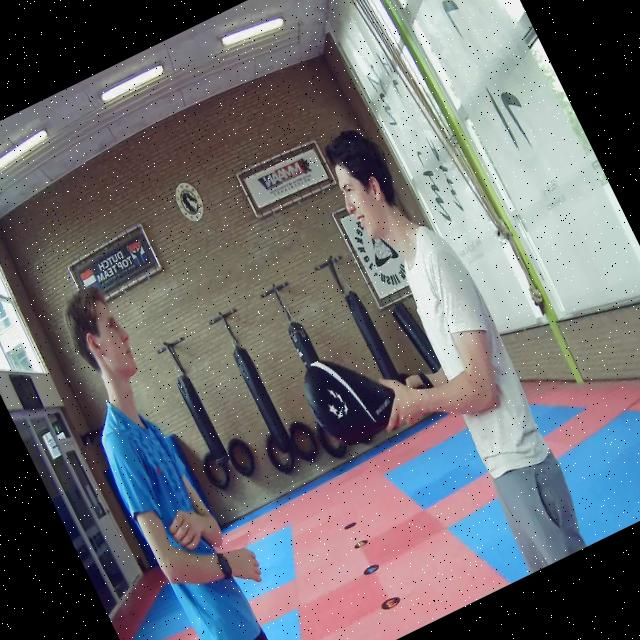paddle: (304, 360, 394, 444)
